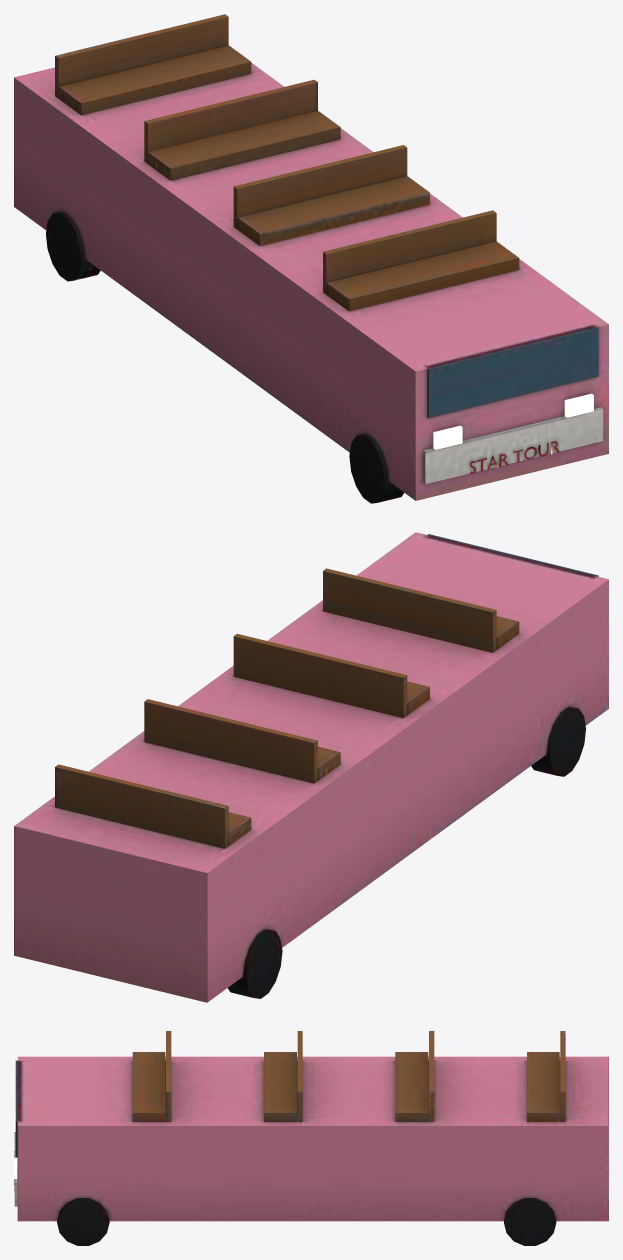
The model's file is autobus_estrellas.glb.
The picture shows the model from 3 angles, top to bottom: view 1: azimuth 30°, elevation 25°; view 2: azimuth 150°, elevation 25°; view 3: azimuth 270°, elevation 25°; orthographic projection. The views are drawn at different scales.
Visible parts, largest first — view 1: autobus_estrellas; view 2: autobus_estrellas; view 3: autobus_estrellas.
Part boxes in pixels (x1=…): autobus_estrellas: x1=14, y1=14, x2=608, y2=503; autobus_estrellas: x1=14, y1=532, x2=608, y2=1002; autobus_estrellas: x1=14, y1=1031, x2=608, y2=1245.
Size of the model in its own units: 2.6 by 2.49 by 9.06.
1 material, 1 textured.
